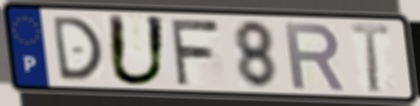8: (232, 18, 281, 92)
D: (49, 15, 105, 83)
F: (166, 17, 222, 87)
R: (282, 20, 348, 92)
T: (347, 20, 392, 95)
U: (105, 12, 170, 89)
